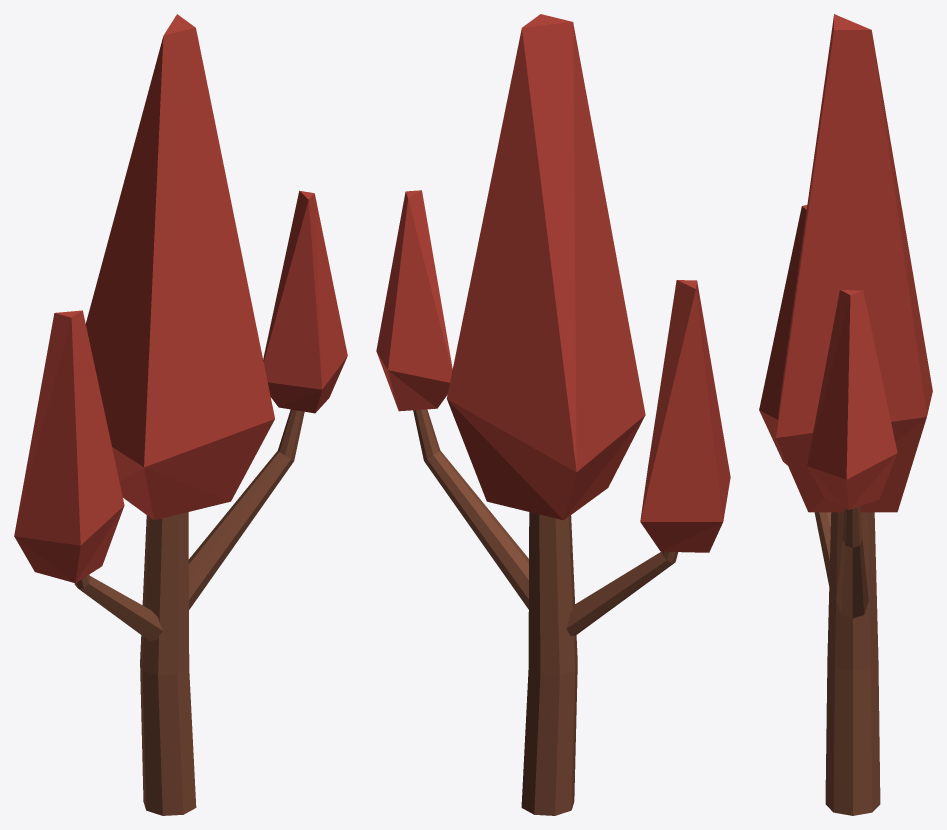
File: Tree_50_summer_red_vc.fbx
3 renders of one model, left to right at view 1: azimuth 30°, elevation 25°; view 2: azimuth 150°, elevation 25°; view 3: azimuth 270°, elevation 25°, orthographic.
Visible parts, largest first — view 1: Tree_50_summer_red_vc; view 2: Tree_50_summer_red_vc; view 3: Tree_50_summer_red_vc.
Boxes of the visible parts, box(x1,y1,x2,y2) form: Tree_50_summer_red_vc: box(14, 14, 347, 815); Tree_50_summer_red_vc: box(376, 14, 730, 815); Tree_50_summer_red_vc: box(759, 14, 932, 815).
Size of the model in its own units: 118 by 259 by 52.22.
